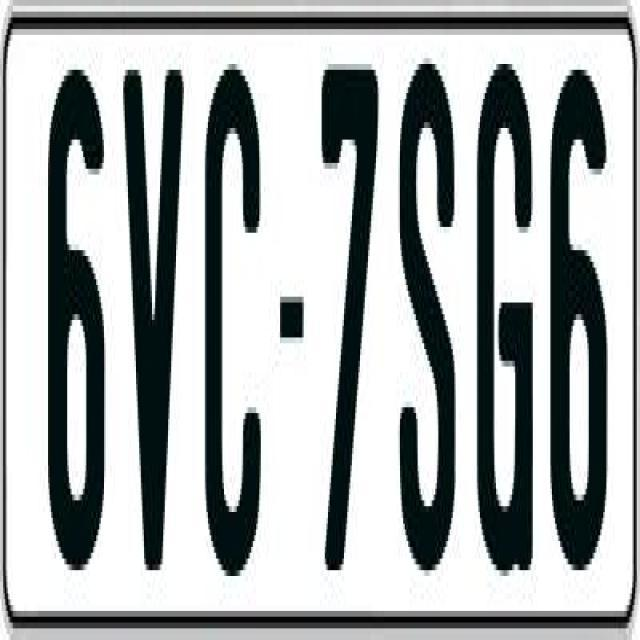6: (45, 70, 109, 600), (549, 58, 605, 559)
7: (322, 58, 386, 594)
C: (200, 70, 258, 606)
G: (474, 52, 534, 582)
S: (398, 64, 456, 588)
V: (121, 52, 186, 570)
